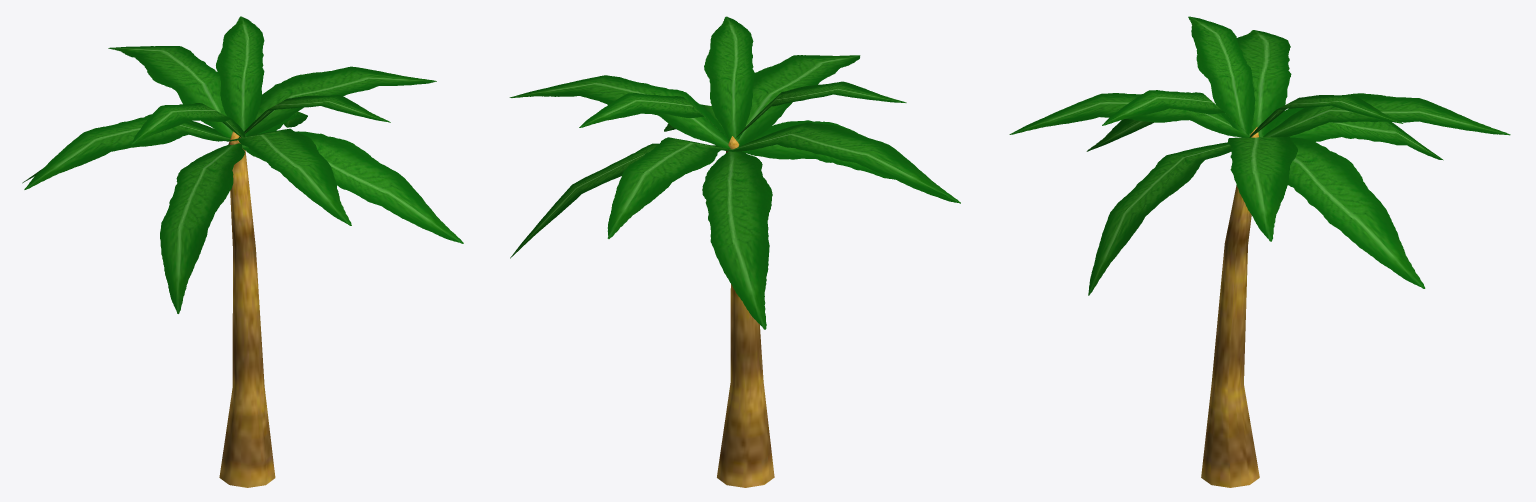
File: bananapalm.obj
The picture shows the model from 3 angles, left to right: view 1: azimuth 30°, elevation 25°; view 2: azimuth 150°, elevation 25°; view 3: azimuth 270°, elevation 25°; orthographic projection. The views are drawn at different scales.
Visible parts, largest first — view 1: Cylinder02, Duplicate02, Duplicate09, Duplicate10, Duplicate01, Duplicate11, Box01, Duplicate12, Duplicate13; view 2: Duplicate02, Duplicate07, Cylinder02, Box01, Duplicate13, Duplicate01, Duplicate11, Duplicate09, Duplicate08, Duplicate12; view 3: Cylinder02, Duplicate02, Duplicate08, Duplicate10, Duplicate12, Box01, Duplicate01, Duplicate07, Duplicate13, Duplicate11, Duplicate09.
Part boxes in pixels (x1,y1,x2,y2): Cylinder02: (219, 131, 275, 487); Duplicate02: (24, 66, 436, 189); Duplicate09: (160, 143, 244, 313); Duplicate10: (242, 131, 463, 243); Duplicate01: (227, 128, 351, 225); Duplicate11: (216, 16, 264, 136); Box01: (108, 46, 232, 137); Duplicate12: (131, 103, 245, 144); Duplicate13: (238, 95, 390, 138); Duplicate02: (509, 75, 952, 197); Duplicate07: (702, 151, 772, 329); Cylinder02: (717, 136, 774, 487); Box01: (607, 137, 734, 238); Duplicate13: (704, 16, 754, 140); Duplicate01: (727, 55, 860, 149); Duplicate11: (579, 93, 729, 139); Duplicate09: (742, 120, 960, 203); Duplicate08: (510, 143, 730, 258); Duplicate12: (735, 81, 906, 138); Cylinder02: (1201, 127, 1259, 487); Duplicate02: (1228, 30, 1297, 241); Duplicate08: (1288, 137, 1425, 288); Duplicate10: (1088, 142, 1231, 295); Duplicate12: (1188, 16, 1255, 135); Box01: (1263, 93, 1510, 137); Duplicate01: (1009, 93, 1251, 137); Duplicate07: (1271, 107, 1443, 160); Duplicate13: (1102, 90, 1248, 134); Duplicate11: (1249, 94, 1403, 137); Duplicate09: (1086, 119, 1153, 151).
Size of the model in its own units: 56.73 by 48.17 by 56.74.
